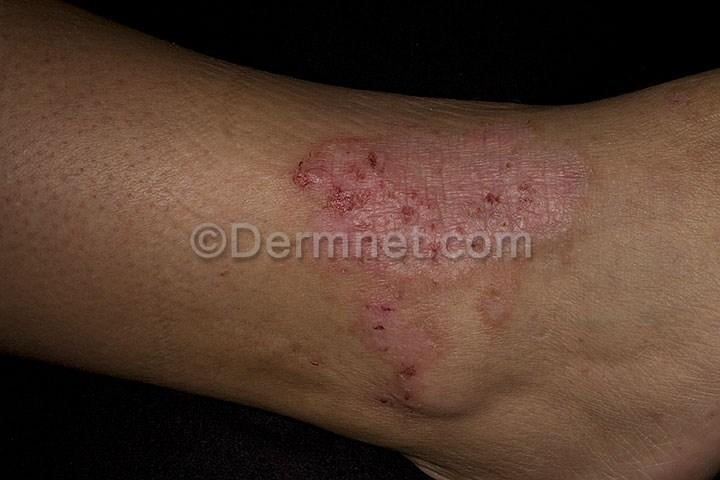Eczema: (235, 105, 611, 432)
